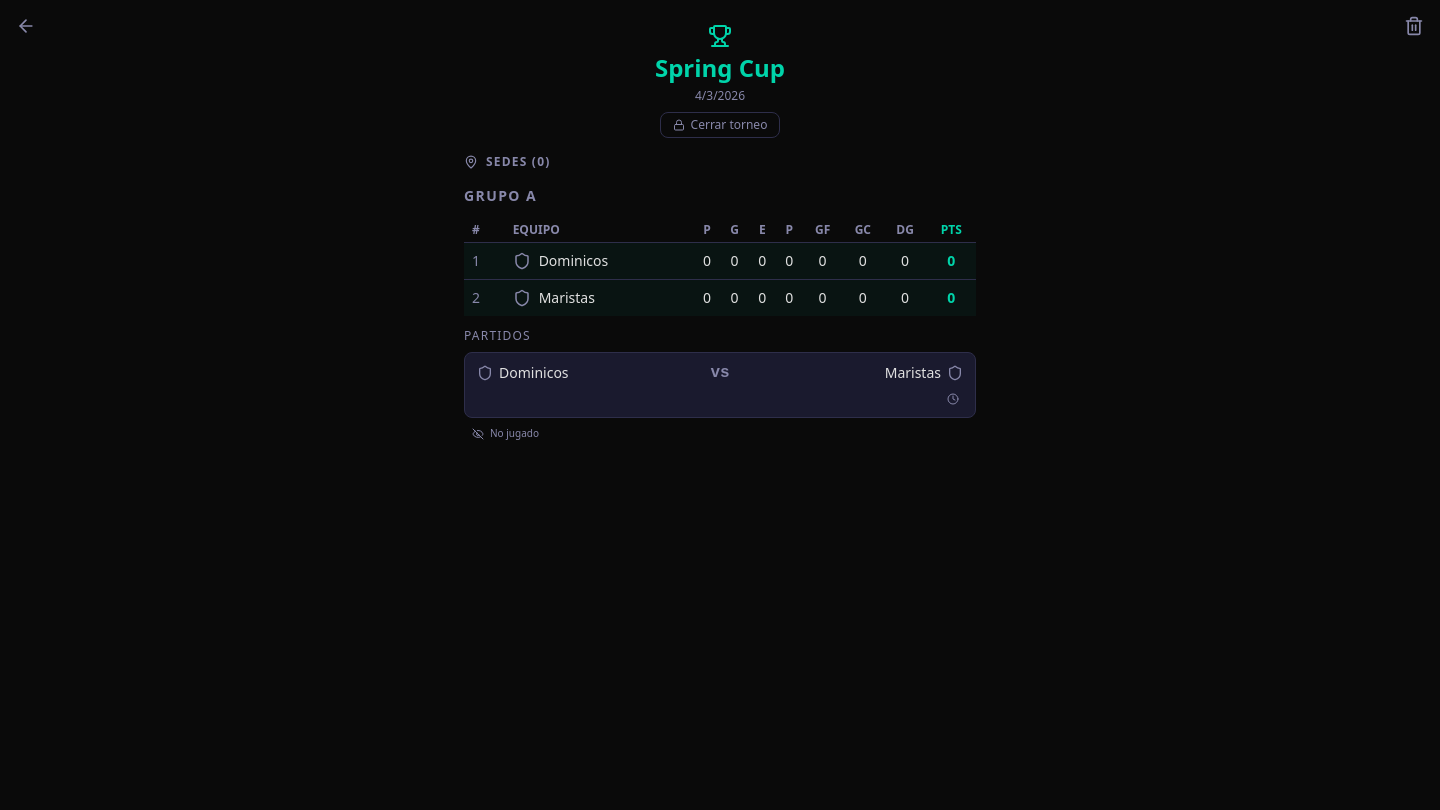
TournamentPage — venue features › venues section expands when toggled
Step 1. Click the button "Sedes (0)" → (512, 162), box [464, 154, 976, 170]
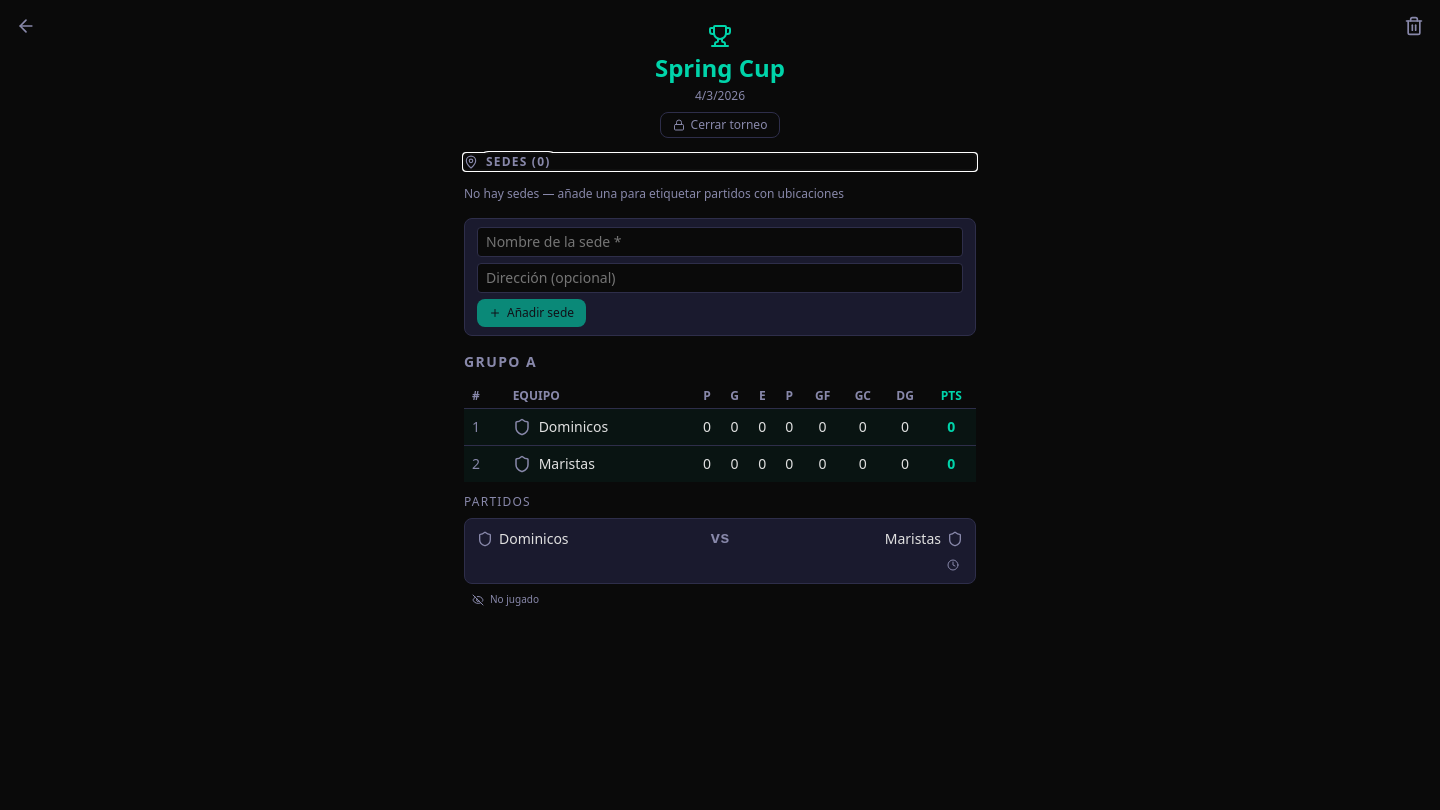
Now the field with placeholder "Nombre de la sede *" is shown, box [477, 227, 963, 257]
